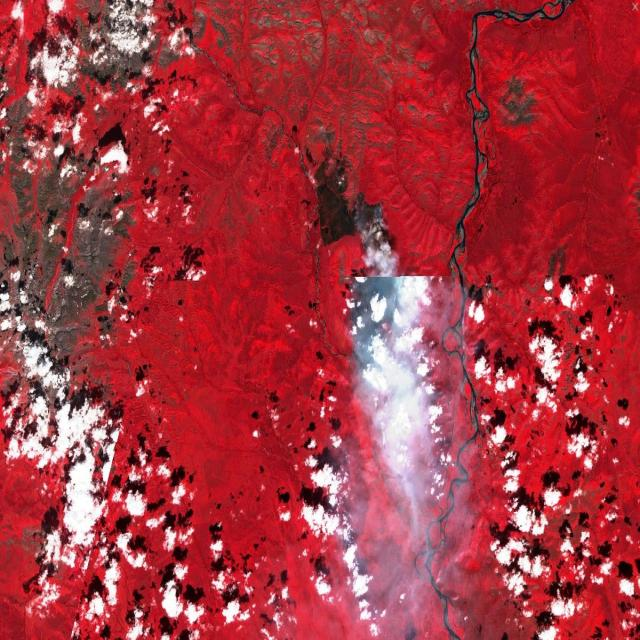fire: (349, 188, 386, 248)
